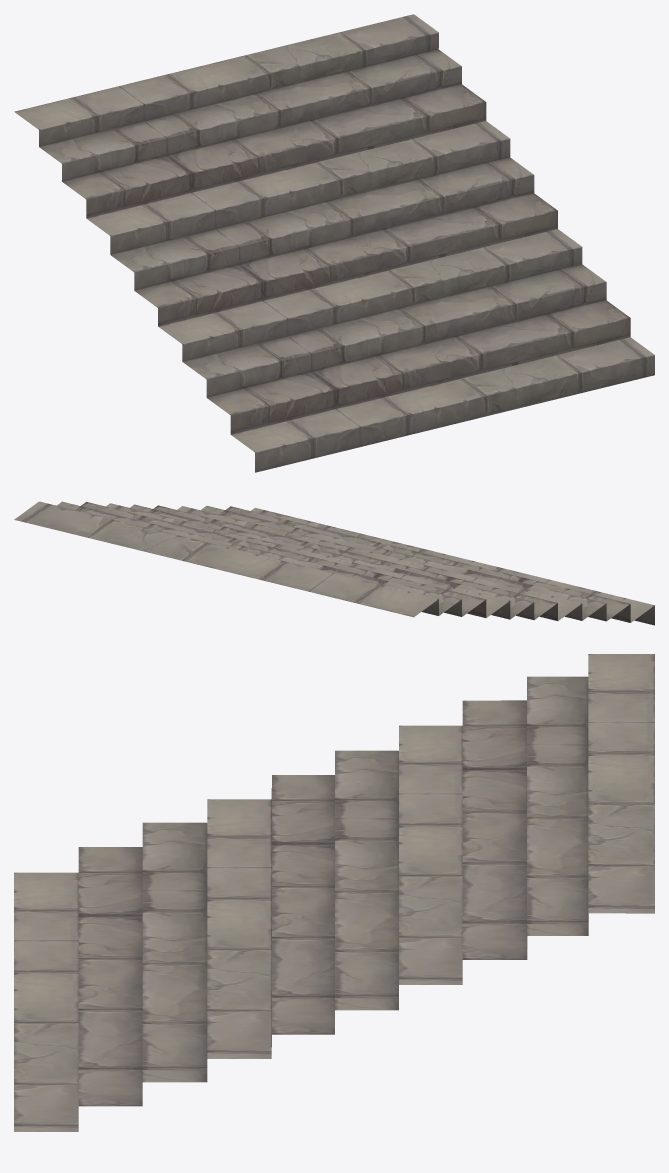
File: cs_lobbynew02_Terrains_jieti01_01.FBX
3 renders of one model, top to bottom at view 1: azimuth 30°, elevation 25°; view 2: azimuth 150°, elevation 25°; view 3: azimuth 270°, elevation 25°, orthographic. The views are drawn at different scales.
Parts seen in each view (by area): view 1: cs_lobbynew02_Terrains_jieti01_01; view 2: cs_lobbynew02_Terrains_jieti01_01; view 3: cs_lobbynew02_Terrains_jieti01_01.
Boxes of the visible parts, x1,y1,x2,y2 form: cs_lobbynew02_Terrains_jieti01_01: (14,14,654,472); cs_lobbynew02_Terrains_jieti01_01: (14,501,654,625); cs_lobbynew02_Terrains_jieti01_01: (14,654,654,1131).
Bounding box in the file's own units: 358 × 158 × 374.
